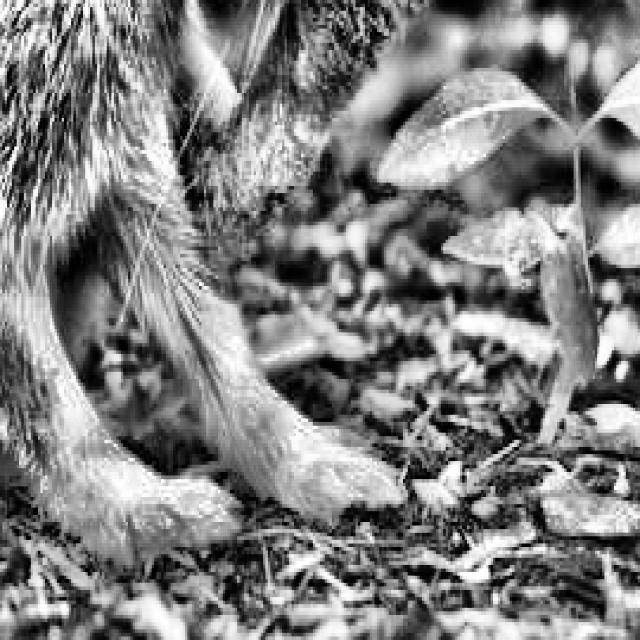rabbit: (0, 0, 424, 572)
